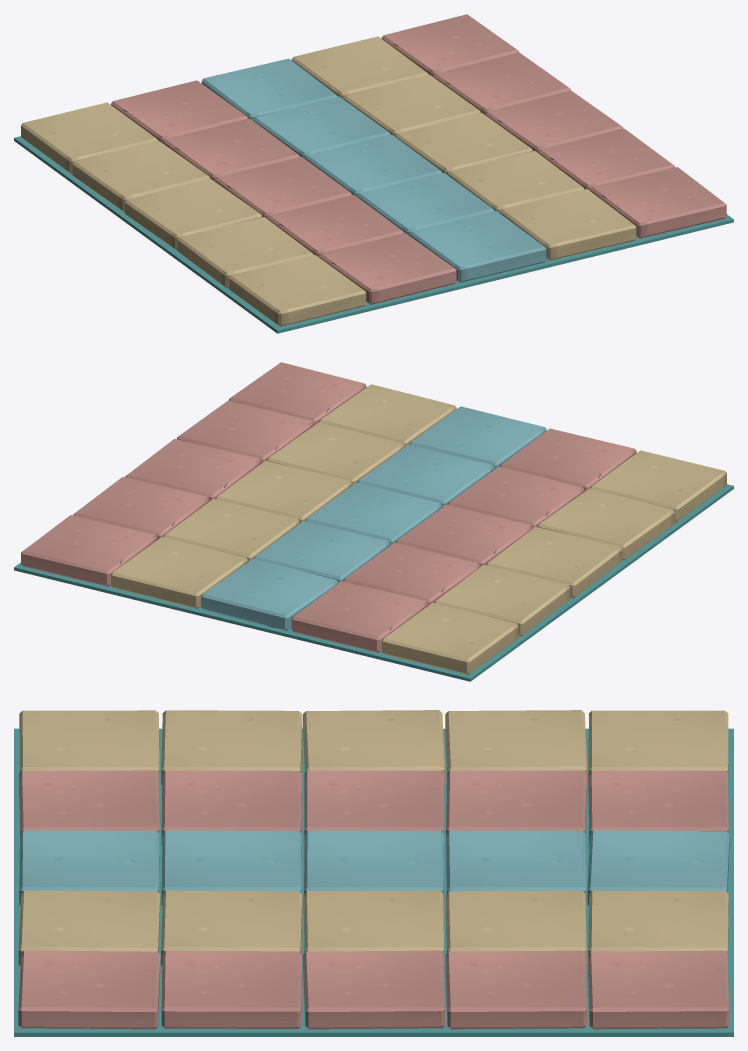
File: floor_cute_base_3p9.glb
The picture shows the model from 3 angles, top to bottom: view 1: azimuth 30°, elevation 25°; view 2: azimuth 150°, elevation 25°; view 3: azimuth 270°, elevation 25°; orthographic projection. The views are drawn at different scales.
Parts seen in each view (by area): view 1: CUTE_BASE_Tile_0_0, CUTE_BASE_Tile_4_0, CUTE_BASE_Tile_1_0, CUTE_BASE_Tile_3_0, CUTE_BASE_Tile_2_0, CUTE_BASE_Grout, CUTE_BASE_Tile_0_2, CUTE_BASE_Tile_0_3, CUTE_BASE_Tile_0_4, CUTE_BASE_Tile_0_1, CUTE_BASE_Tile_1_4, CUTE_BASE_Tile_3_3 (+14 smaller); view 2: CUTE_BASE_Tile_0_4, CUTE_BASE_Tile_1_4, CUTE_BASE_Tile_2_4, CUTE_BASE_Tile_4_4, CUTE_BASE_Tile_3_4, CUTE_BASE_Grout, CUTE_BASE_Tile_0_1, CUTE_BASE_Tile_0_0, CUTE_BASE_Tile_0_2, CUTE_BASE_Tile_0_3, CUTE_BASE_Tile_1_2, CUTE_BASE_Tile_1_3 (+14 smaller); view 3: CUTE_BASE_Grout, CUTE_BASE_Tile_4_0, CUTE_BASE_Tile_4_2, CUTE_BASE_Tile_4_3, CUTE_BASE_Tile_4_4, CUTE_BASE_Tile_4_1, CUTE_BASE_Tile_3_0, CUTE_BASE_Tile_1_4, CUTE_BASE_Tile_0_0, CUTE_BASE_Tile_0_1, CUTE_BASE_Tile_0_4, CUTE_BASE_Tile_0_2 (+14 smaller).
Part boxes in pixels (x1=…): CUTE_BASE_Tile_0_0: x1=229, y1=255, x2=366, y2=326; CUTE_BASE_Tile_4_0: x1=590, y1=167, x2=726, y2=238; CUTE_BASE_Tile_1_0: x1=319, y1=233, x2=456, y2=304; CUTE_BASE_Tile_3_0: x1=500, y1=189, x2=636, y2=260; CUTE_BASE_Tile_2_0: x1=409, y1=211, x2=546, y2=282; CUTE_BASE_Grout: x1=14, y1=136, x2=733, y2=333; CUTE_BASE_Tile_0_2: x1=124, y1=178, x2=262, y2=250; CUTE_BASE_Tile_0_3: x1=72, y1=140, x2=210, y2=211; CUTE_BASE_Tile_0_4: x1=21, y1=102, x2=157, y2=174; CUTE_BASE_Tile_0_1: x1=177, y1=217, x2=313, y2=288; CUTE_BASE_Tile_1_4: x1=111, y1=80, x2=248, y2=143; CUTE_BASE_Tile_3_3: x1=343, y1=74, x2=480, y2=136; CUTE_BASE_Tile_0_4: x1=381, y1=603, x2=518, y2=674; CUTE_BASE_Tile_1_4: x1=291, y1=581, x2=428, y2=652; CUTE_BASE_Tile_2_4: x1=201, y1=558, x2=338, y2=630; CUTE_BASE_Tile_4_4: x1=21, y1=515, x2=157, y2=586; CUTE_BASE_Tile_3_4: x1=111, y1=537, x2=248, y2=608; CUTE_BASE_Grout: x1=14, y1=484, x2=733, y2=681; CUTE_BASE_Tile_0_1: x1=537, y1=488, x2=675, y2=560; CUTE_BASE_Tile_0_0: x1=590, y1=450, x2=726, y2=522; CUTE_BASE_Tile_0_2: x1=486, y1=527, x2=622, y2=598; CUTE_BASE_Tile_0_3: x1=434, y1=565, x2=570, y2=636; CUTE_BASE_Tile_1_2: x1=395, y1=504, x2=532, y2=566; CUTE_BASE_Tile_1_3: x1=343, y1=543, x2=480, y2=605; CUTE_BASE_Grout: x1=14, y1=728, x2=733, y2=1036; CUTE_BASE_Tile_4_0: x1=18, y1=950, x2=160, y2=1029; CUTE_BASE_Tile_4_2: x1=303, y1=950, x2=444, y2=1029; CUTE_BASE_Tile_4_3: x1=445, y1=950, x2=586, y2=1029; CUTE_BASE_Tile_4_4: x1=588, y1=950, x2=728, y2=1029; CUTE_BASE_Tile_4_1: x1=161, y1=951, x2=301, y2=1028; CUTE_BASE_Tile_3_0: x1=18, y1=890, x2=160, y2=966; CUTE_BASE_Tile_1_4: x1=588, y1=770, x2=728, y2=845; CUTE_BASE_Tile_0_0: x1=19, y1=710, x2=159, y2=785; CUTE_BASE_Tile_0_1: x1=161, y1=710, x2=302, y2=785; CUTE_BASE_Tile_0_4: x1=588, y1=710, x2=728, y2=778; CUTE_BASE_Tile_0_2: x1=303, y1=710, x2=444, y2=785.
Bounding box in the file's own units: 3.95 × 0.1565 × 3.95.
Materials: 4 (3 with a texture image).
